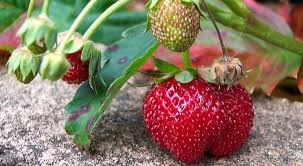ripe: (141, 70, 255, 160), (60, 48, 92, 85)
unripe: (138, 1, 203, 52), (19, 15, 56, 54), (8, 44, 43, 83)
